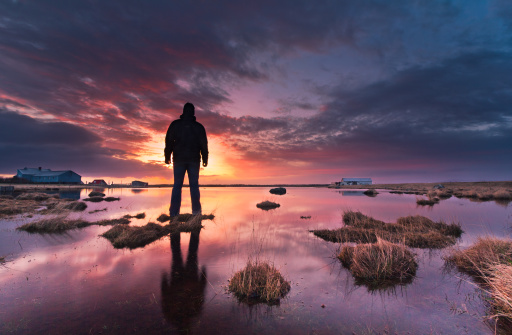em pe: (156, 97, 208, 228)
